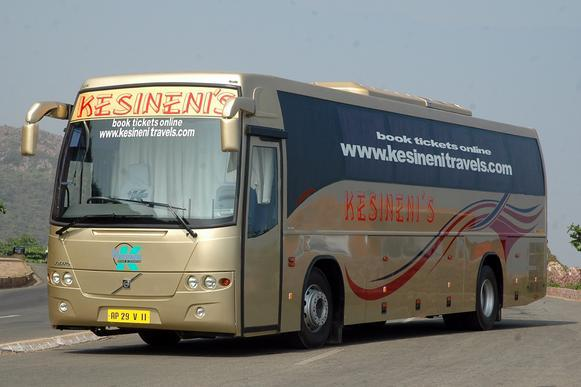Bus: (22, 72, 553, 350)
